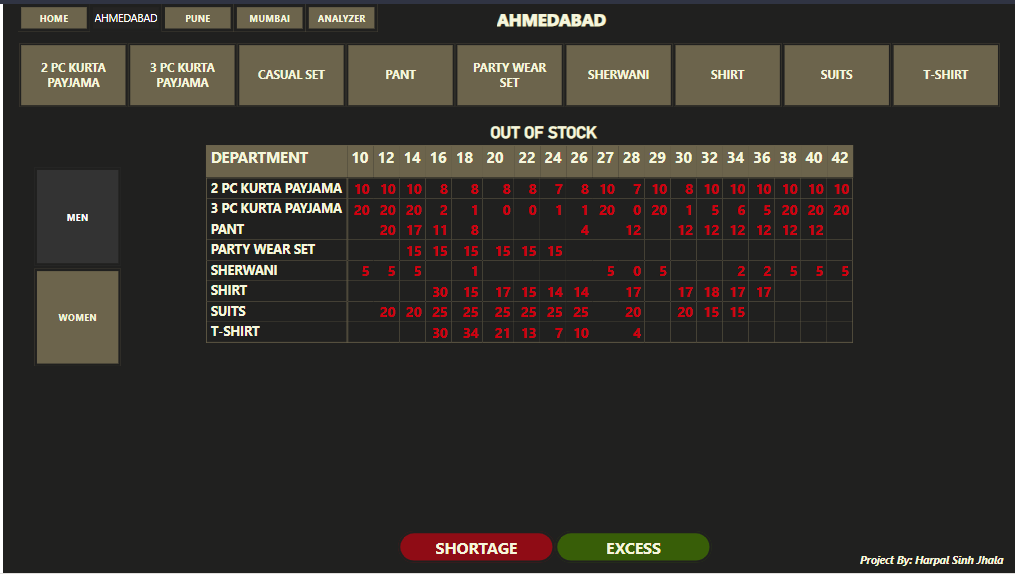

The dashboard page shown, as its layout file describes it:
{"tool":"powerbi","page":{"name":"AHMEDABAD","canvas":[1280,720],"ordinal":1},"visuals":[{"type":"slicer","fields":{"Values":["MINIMUM.Department"]},"box":[0,48.2,1279.8,83.6],"z":0},{"type":"textbox","box":[619.4,0,158.2,47.8],"z":1000},{"type":"textbox","box":[1173.6,694.1,106.6,25.9],"z":2000},{"type":"textbox","box":[1079.1,689.6,201.5,29.9],"z":3000},{"type":"slicer","title":"DIVISION","fields":{"Values":["MINIMUM.Division"]},"box":[18.4,205.5,148.8,255.1],"z":4000},{"type":"actionButton","box":[698.5,667.2,198.5,40.3],"z":6000},{"type":"actionButton","box":[500,667.2,198.5,40.3],"z":7000},{"type":"pivotTable","title":"EXCESS OF STOCK","fields":{"Columns":["MINIMUM.SIZE"],"Rows":["MINIMUM.Department"],"Values":["MINIMUM.subtract"]},"box":[265.9,153.2,865.4,457.5],"z":8000},{"type":"pageNavigator","box":[18.4,0,457.8,35.4],"z":9000}]}

Visuals, with their boxes in screenshot pixels (x1, y1, x2, y2), scaled from the page's 1280x720 canvas onto the 1015x574 screenshot:
slicer - MINIMUM.Department: l=0, t=38, r=1014, b=105
textbox: l=491, t=0, r=617, b=38
textbox: l=931, t=553, r=1014, b=573
textbox: l=856, t=550, r=1014, b=573
"DIVISION" slicer: l=15, t=164, r=133, b=367
actionButton: l=554, t=532, r=711, b=564
actionButton: l=396, t=532, r=554, b=564
"EXCESS OF STOCK" pivotTable: l=211, t=122, r=897, b=487
pageNavigator: l=15, t=0, r=378, b=28
